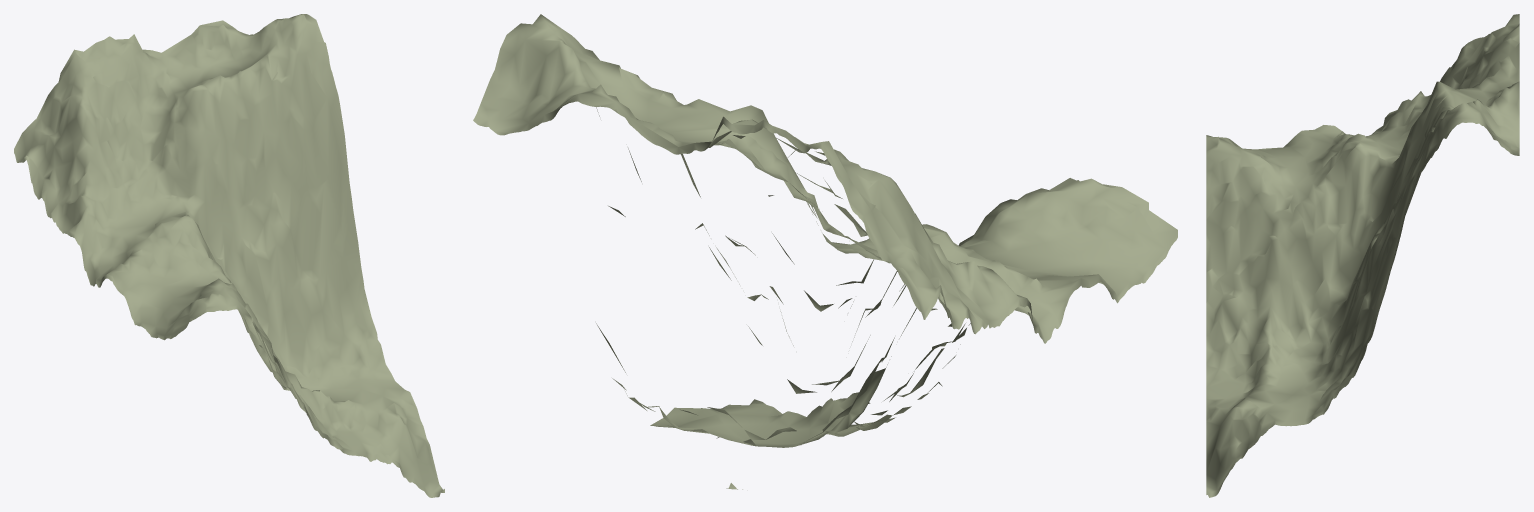
Rendered from terrain_r3_c0_lod1.glb.
The picture shows the model from 3 angles, left to right: view 1: azimuth 30°, elevation 25°; view 2: azimuth 150°, elevation 25°; view 3: azimuth 270°, elevation 25°; orthographic projection. The views are drawn at different scales.
Visible parts, largest first — view 1: terrain_r3_c0_lod1; view 2: terrain_r3_c0_lod1; view 3: terrain_r3_c0_lod1.
Boxes of the visible parts, x1,y1,x2,y2 form: terrain_r3_c0_lod1: [14, 14, 444, 497]; terrain_r3_c0_lod1: [473, 14, 1177, 489]; terrain_r3_c0_lod1: [1206, 14, 1519, 497].
Size of the model in its own units: 50 by 68.32 by 50.
